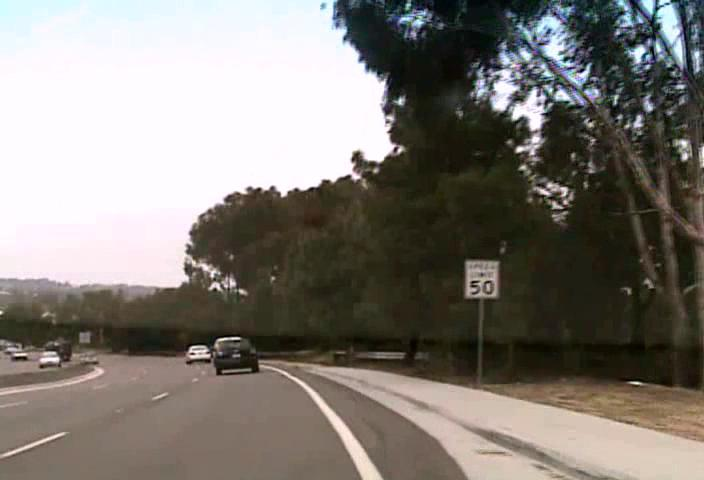speedLimitUrdbl: (462, 258, 500, 300)
